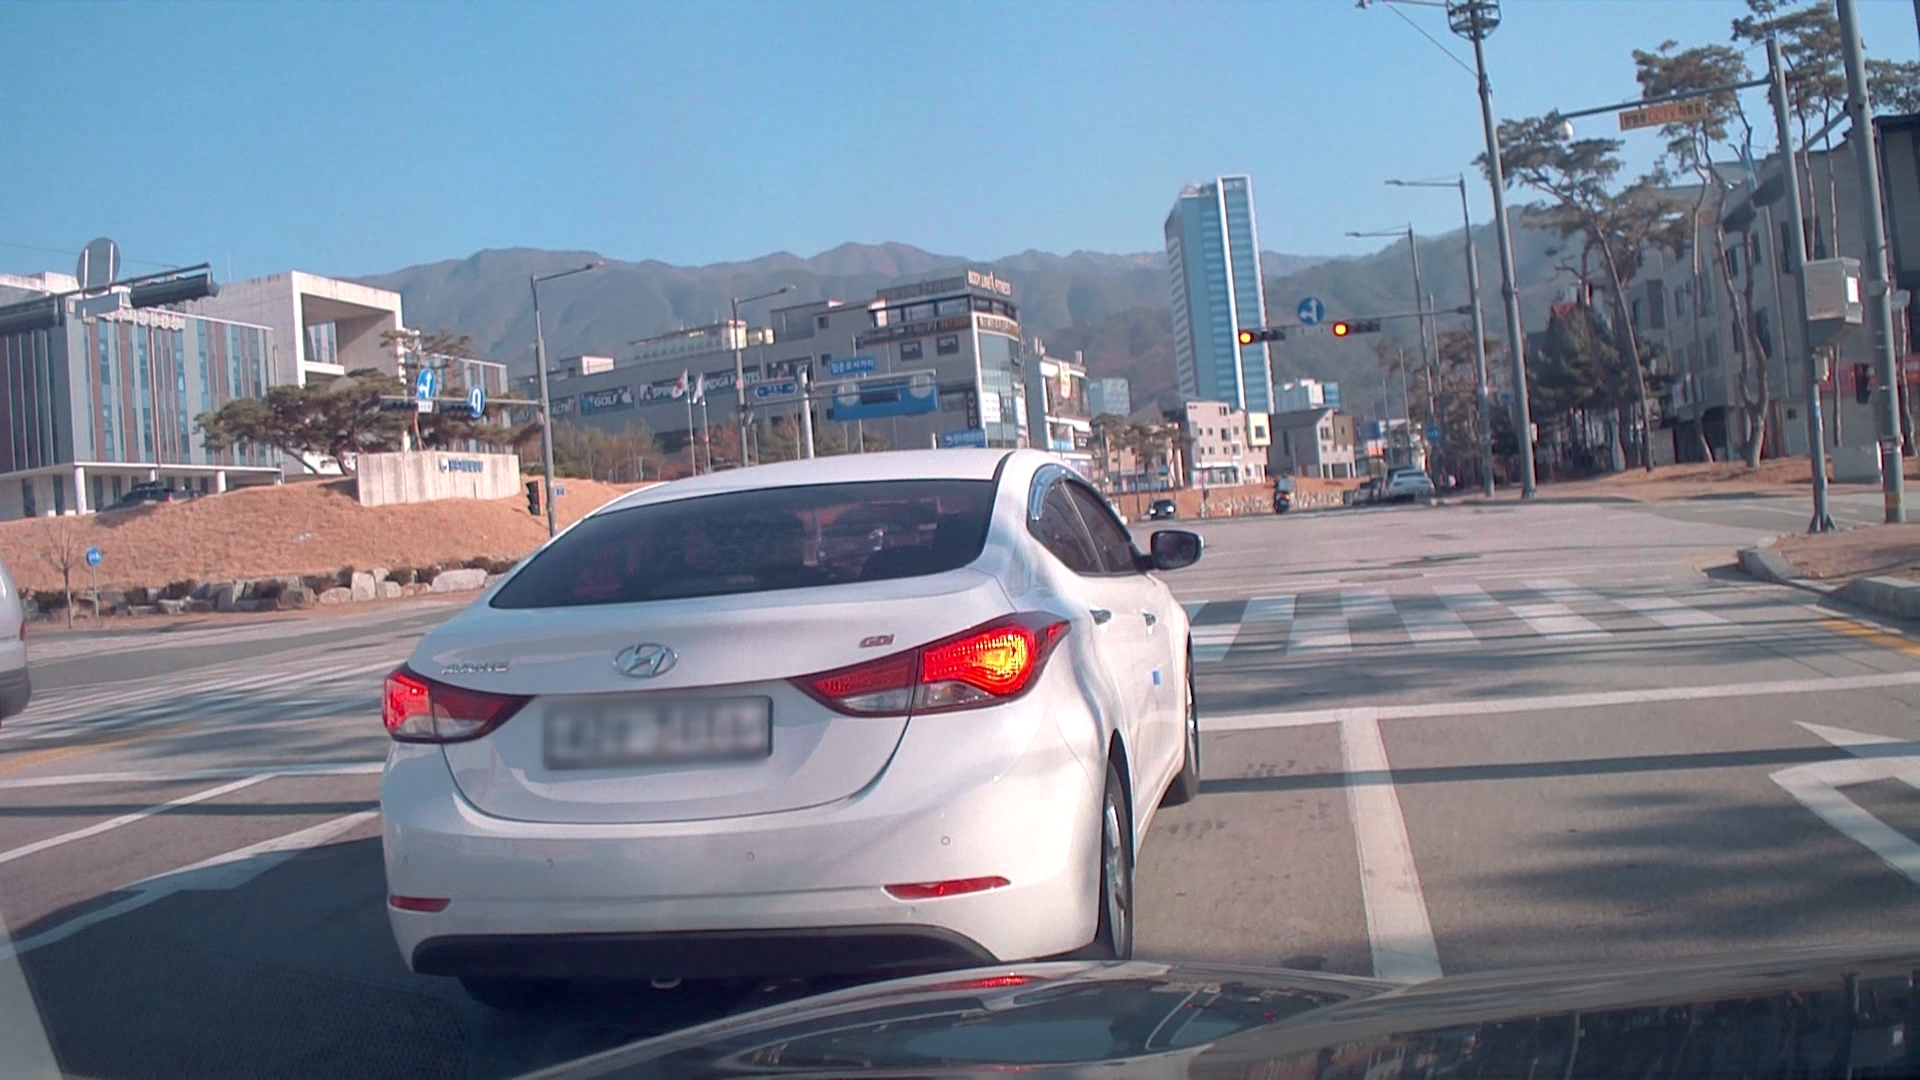trafficLight: (1236, 323, 1292, 345), (1332, 319, 1381, 338)
trafficSignCircle: (1298, 297, 1323, 328)
